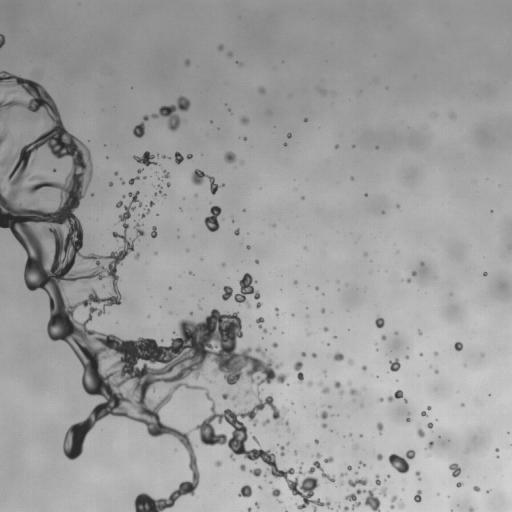droplet: (152, 97, 190, 131), (222, 273, 260, 307), (345, 488, 380, 511), (388, 450, 415, 473), (204, 205, 221, 231), (133, 151, 157, 166), (449, 463, 461, 477), (238, 485, 252, 497), (272, 488, 281, 503), (224, 151, 235, 163), (389, 359, 400, 371), (375, 316, 384, 328), (175, 152, 183, 164), (249, 468, 261, 476), (349, 388, 359, 397), (414, 490, 421, 502), (334, 352, 343, 361), (454, 342, 462, 351), (377, 422, 383, 434), (417, 428, 425, 437), (256, 317, 263, 327), (151, 226, 157, 237), (240, 116, 248, 124), (324, 456, 333, 463), (379, 487, 386, 496), (320, 411, 327, 419), (334, 381, 341, 388), (163, 170, 169, 178), (221, 393, 229, 399), (322, 387, 329, 393), (262, 419, 269, 425), (376, 453, 382, 460), (415, 471, 420, 479), (256, 302, 262, 308), (427, 422, 433, 428), (428, 441, 433, 448), (240, 464, 245, 471), (473, 486, 480, 491), (218, 44, 223, 50), (259, 87, 264, 93), (234, 229, 239, 235), (134, 253, 139, 259), (421, 411, 427, 416), (215, 461, 221, 466), (359, 461, 365, 466), (456, 482, 462, 487), (398, 502, 403, 508), (185, 59, 189, 66), (187, 154, 192, 159), (272, 342, 277, 347), (307, 381, 312, 386), (343, 506, 348, 511), (0, 136, 4, 142), (340, 472, 346, 476), (287, 133, 291, 138), (137, 168, 142, 172), (323, 327, 328, 331), (381, 335, 385, 340), (312, 352, 316, 357), (362, 365, 366, 370), (231, 396, 236, 400), (379, 397, 383, 402), (282, 407, 287, 411), (322, 423, 326, 428), (347, 465, 351, 470), (255, 502, 259, 507), (228, 52, 232, 56), (166, 182, 170, 186), (246, 245, 250, 249), (412, 271, 416, 275), (483, 272, 487, 276), (263, 329, 267, 333), (301, 352, 305, 356), (348, 359, 352, 363), (314, 439, 318, 443), (336, 503, 340, 507), (247, 507, 251, 511), (469, 507, 473, 511), (320, 90, 325, 93), (161, 155, 166, 158), (275, 308, 278, 313), (418, 330, 421, 335), (114, 171, 117, 175), (221, 262, 225, 265), (407, 278, 410, 282), (198, 305, 201, 309), (435, 369, 438, 373), (340, 390, 343, 394), (427, 406, 430, 410), (406, 417, 409, 421), (354, 445, 358, 448), (451, 114, 454, 117), (335, 145, 338, 148), (109, 182, 112, 185), (420, 262, 423, 265), (294, 281, 297, 284), (321, 309, 324, 312), (434, 352, 437, 355), (404, 399, 407, 402), (235, 403, 238, 406), (495, 448, 498, 451), (122, 180, 124, 184), (304, 119, 307, 121), (243, 137, 246, 139), (284, 143, 286, 146), (53, 169, 55, 172), (143, 176, 145, 179), (91, 193, 93, 196), (364, 253, 367, 255), (255, 260, 258, 262), (189, 272, 192, 274), (168, 287, 171, 289), (315, 287, 318, 289), (348, 382, 350, 385), (461, 403, 463, 406), (328, 406, 331, 408), (360, 434, 362, 437), (294, 451, 296, 454), (355, 471, 357, 474), (387, 475, 390, 477), (258, 486, 261, 488), (351, 177, 353, 179), (162, 193, 164, 195), (123, 195, 125, 197), (382, 211, 384, 213), (304, 247, 306, 249), (420, 353, 422, 355), (406, 356, 408, 358), (323, 371, 325, 373), (247, 401, 249, 403), (264, 474, 266, 476), (487, 490, 489, 492)
ligament: (0, 71, 334, 511), (191, 169, 224, 194), (133, 115, 148, 137), (293, 361, 303, 382), (140, 201, 153, 217), (387, 389, 403, 402), (348, 477, 367, 486), (255, 347, 266, 356), (390, 495, 397, 508), (129, 176, 138, 185), (0, 34, 5, 47), (278, 445, 284, 455), (252, 436, 259, 444), (375, 474, 380, 485), (154, 190, 161, 197)
